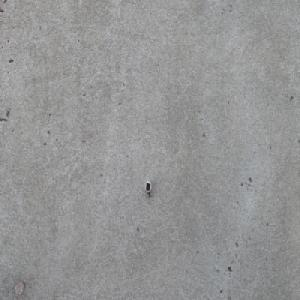MetalPart: (144, 180, 152, 198)
